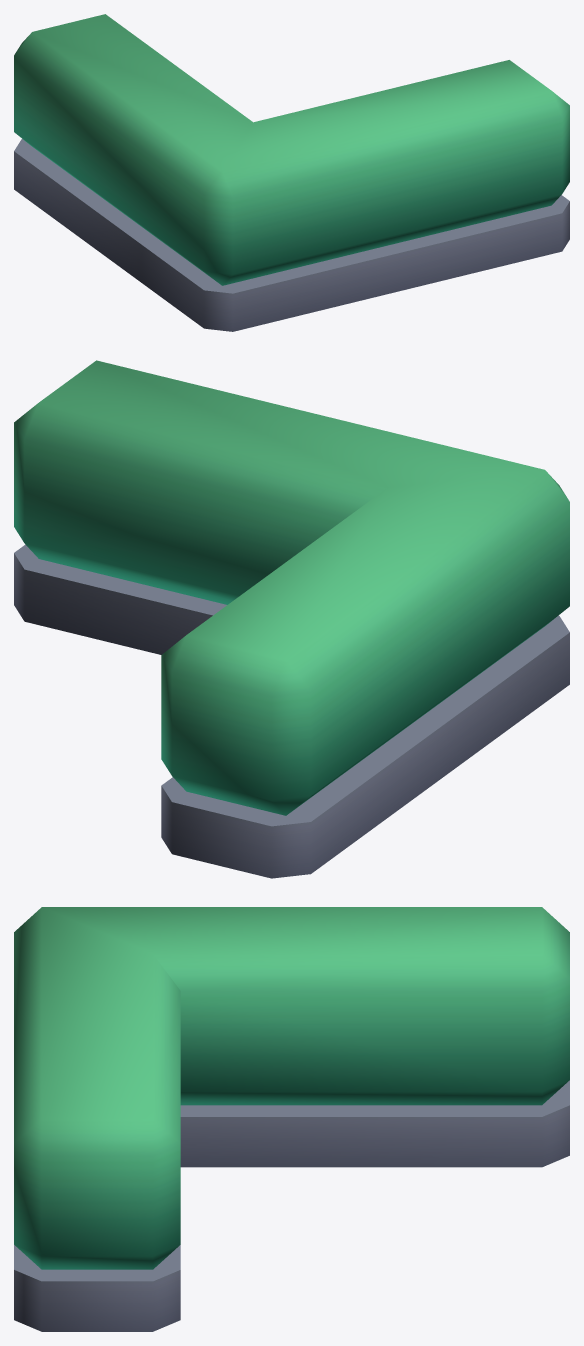
Rendered from kenney-platformer-hedge-corner.glb.
3 views of the same model, one above another, from view 1: azimuth 30°, elevation 25°; view 2: azimuth 150°, elevation 25°; view 3: azimuth 270°, elevation 25° (orthographic). The views are drawn at different scales.
Visible parts, largest first — view 1: hedge-corner; view 2: hedge-corner; view 3: hedge-corner.
Boxes of the visible parts, <box> form: hedge-corner: <box>14,14,569,331</box>; hedge-corner: <box>14,360,569,878</box>; hedge-corner: <box>14,907,569,1331</box>.
Size of the model in its own units: 1 by 0.3999 by 1.
Materials: 1 (1 with a texture image).
